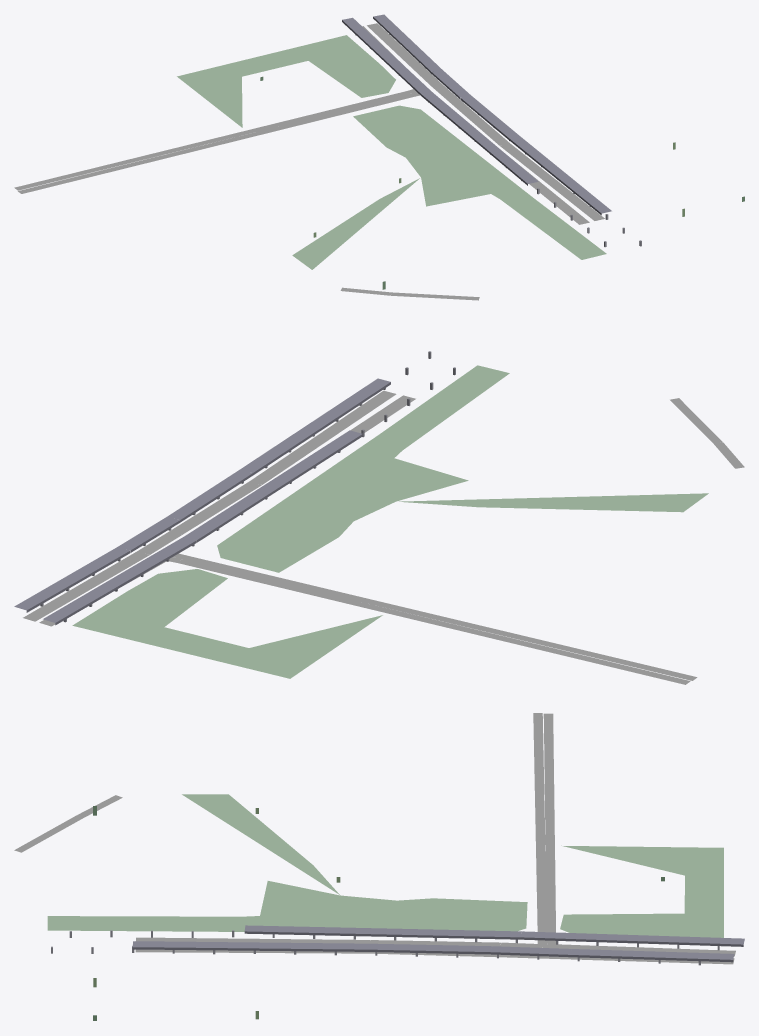
3 views of the same model, one above another, from view 1: azimuth 30°, elevation 25°; view 2: azimuth 150°, elevation 25°; view 3: azimuth 270°, elevation 25° (orthographic). The views are drawn at different scales.
Bounding box in the file's own units: 538 × 10.33 × 540.
